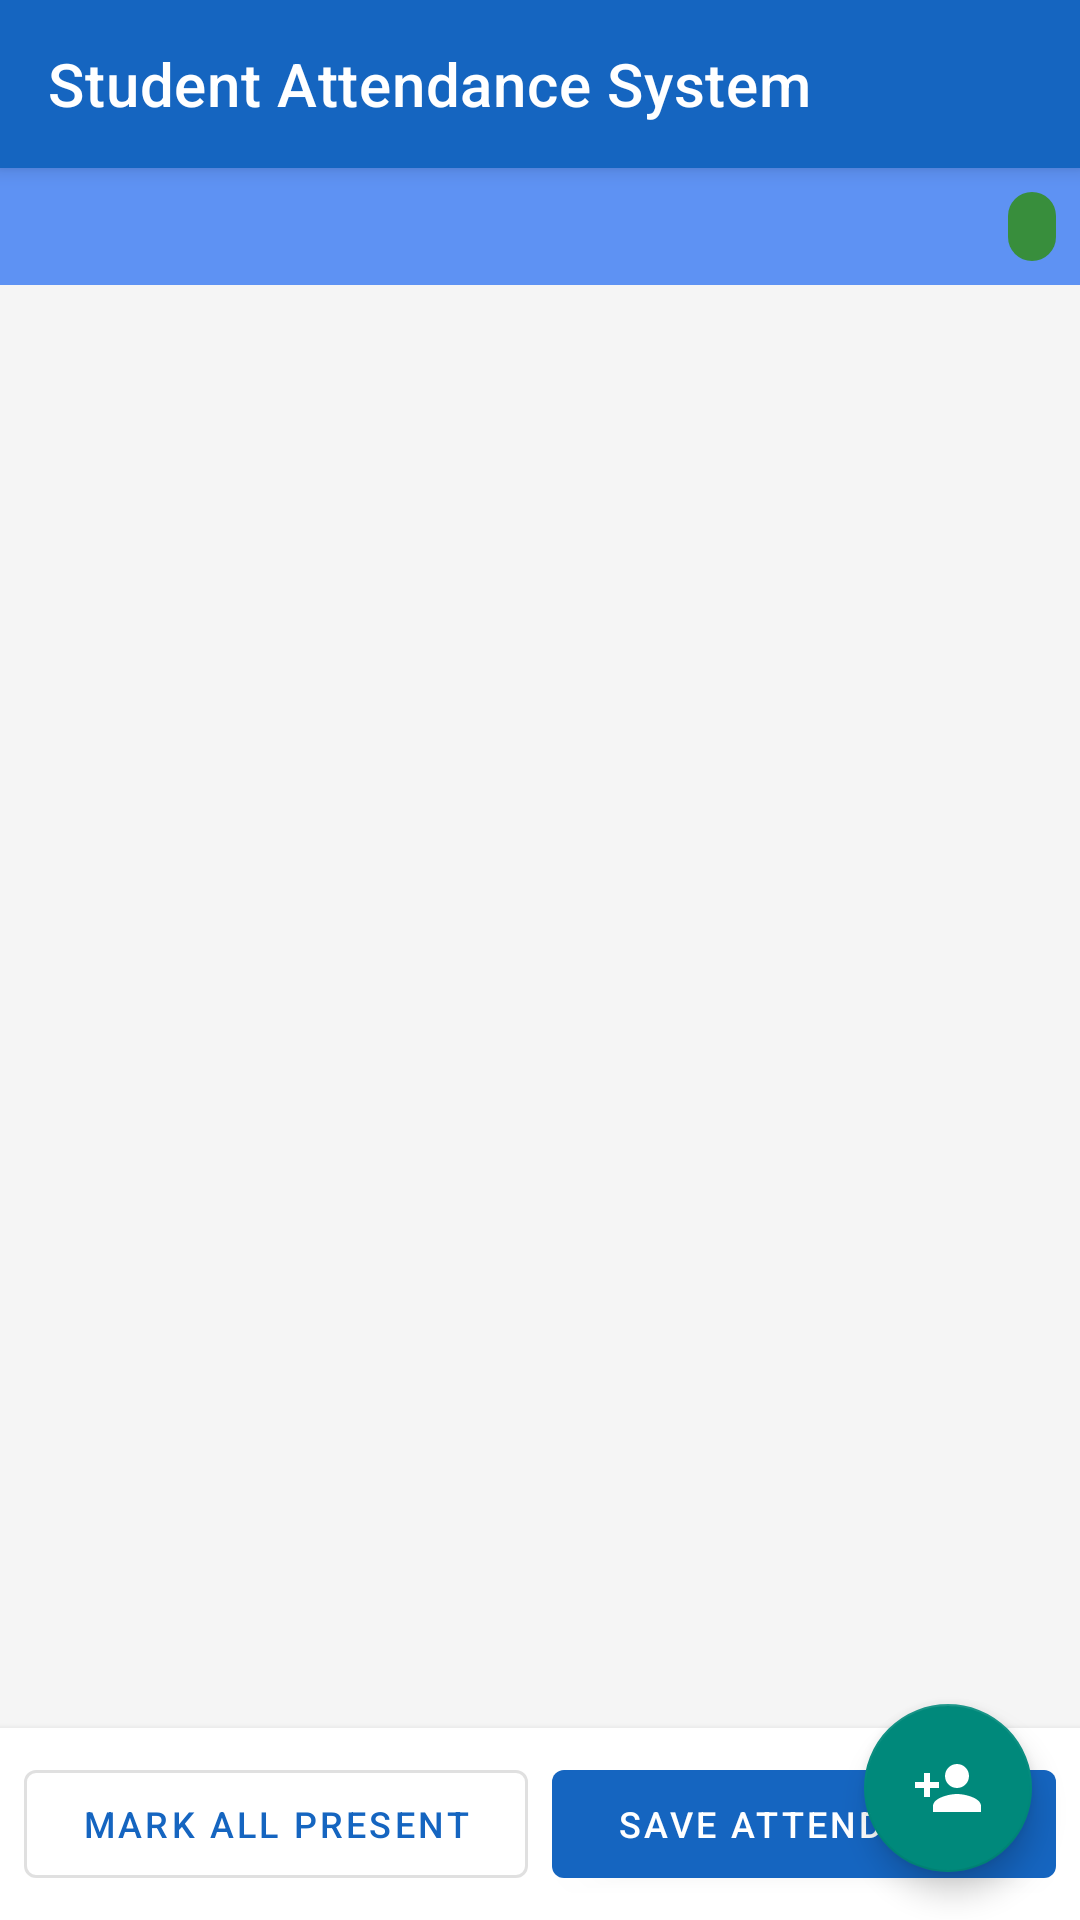

Screen size 1080*1920. Icon name, then its center in pixels as (x=x, y=y):
Register Student: (x=948, y=1788)
